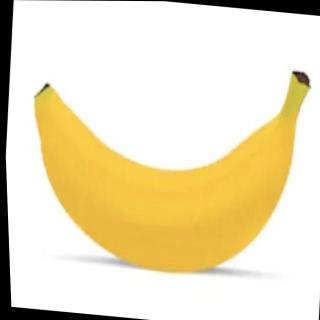banana: (16, 76, 303, 282)
